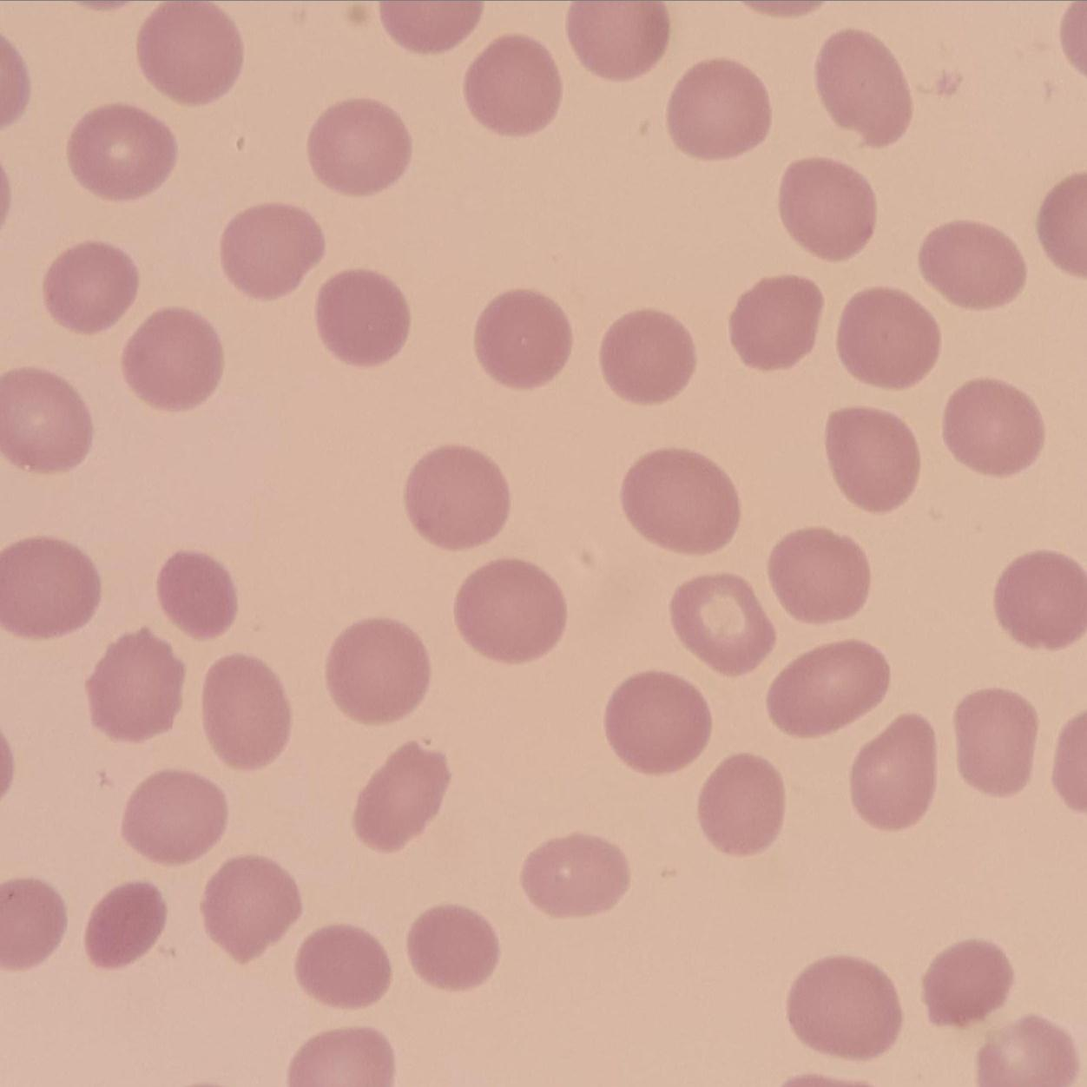Uninfected: (619, 448, 737, 553), (786, 955, 900, 1061), (814, 29, 914, 148), (767, 641, 887, 738), (324, 617, 432, 724), (453, 560, 563, 662), (351, 740, 451, 852), (84, 630, 184, 741), (201, 853, 302, 962), (603, 671, 708, 774), (137, 3, 244, 104), (669, 573, 774, 675), (201, 654, 295, 767), (408, 446, 514, 546), (119, 768, 226, 866), (68, 105, 177, 201), (121, 307, 223, 409), (666, 60, 770, 160), (835, 287, 939, 387), (0, 536, 100, 640), (823, 405, 921, 510), (778, 157, 877, 260), (768, 527, 873, 624), (848, 713, 937, 827), (472, 289, 573, 389), (0, 367, 95, 473), (942, 377, 1044, 475), (307, 99, 412, 194), (464, 36, 563, 135), (991, 549, 1087, 650), (315, 268, 413, 366), (220, 202, 321, 297), (919, 220, 1025, 309), (599, 309, 695, 407), (952, 688, 1037, 798), (521, 833, 629, 919), (695, 754, 785, 855), (728, 276, 823, 371), (44, 240, 140, 333), (293, 924, 392, 1008), (922, 939, 1012, 1030), (405, 905, 498, 990), (567, 4, 669, 79), (83, 881, 168, 970), (156, 549, 239, 640)
